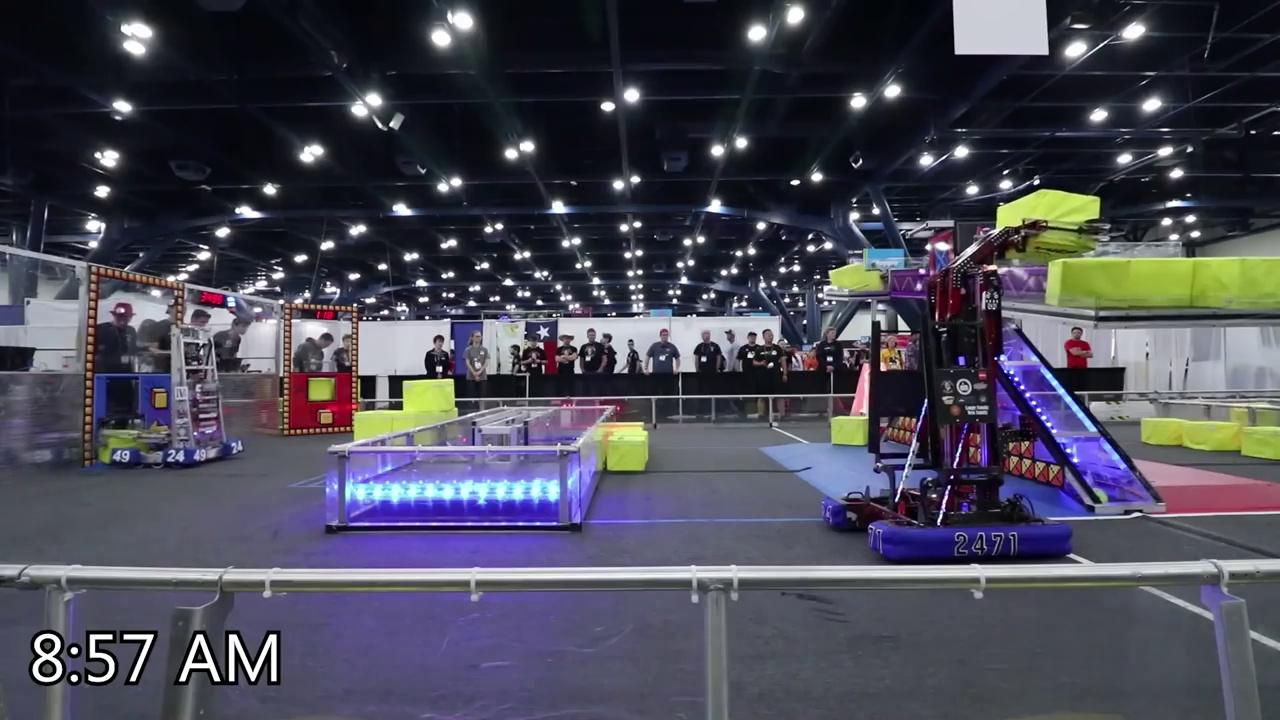robot: (817, 220, 1073, 563), (102, 325, 248, 472)
